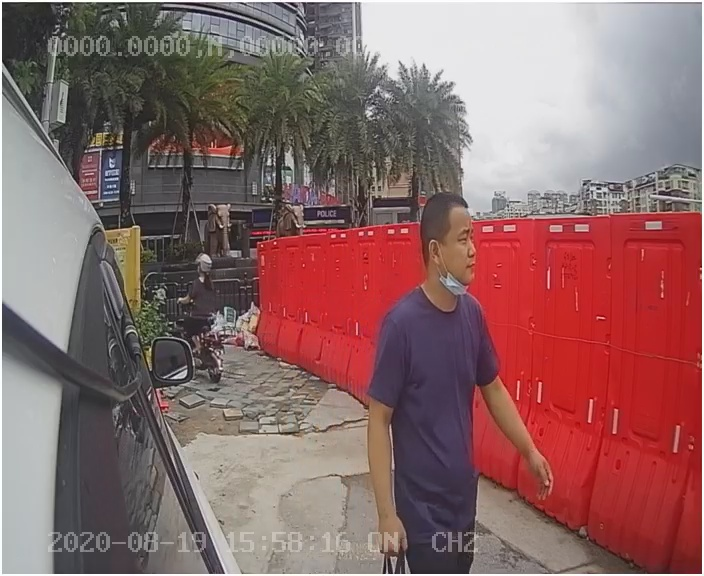person: (354, 189, 560, 525)
